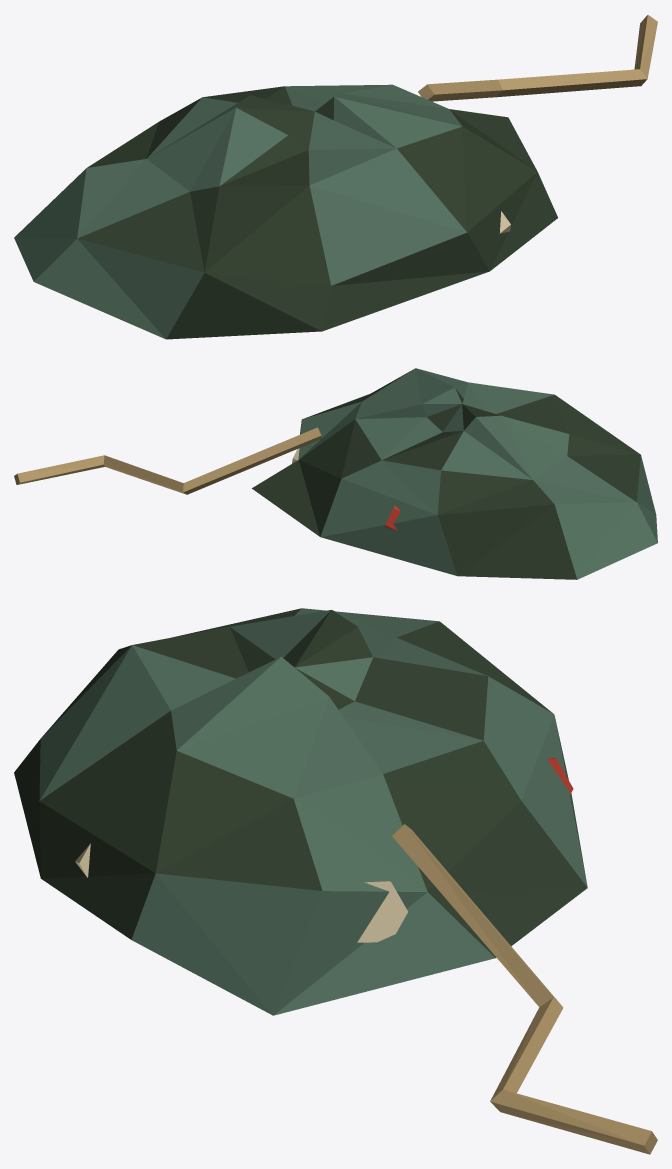
The model's file is fishing_net.glb.
3 renders of one model, top to bottom at view 1: azimuth 30°, elevation 25°; view 2: azimuth 150°, elevation 25°; view 3: azimuth 270°, elevation 25°, orthographic. The views are drawn at different scales.
Parts seen in each view (by area): view 1: fishing_net; view 2: fishing_net; view 3: fishing_net.
Part boxes in pixels (x1,y1,x2,y2): fishing_net: (14,15,657,339); fishing_net: (14,368,657,579); fishing_net: (14,608,657,1154).
Size of the model in its own units: 2.36 by 0.4762 by 1.29.
Materials: 1 (1 with a texture image).
